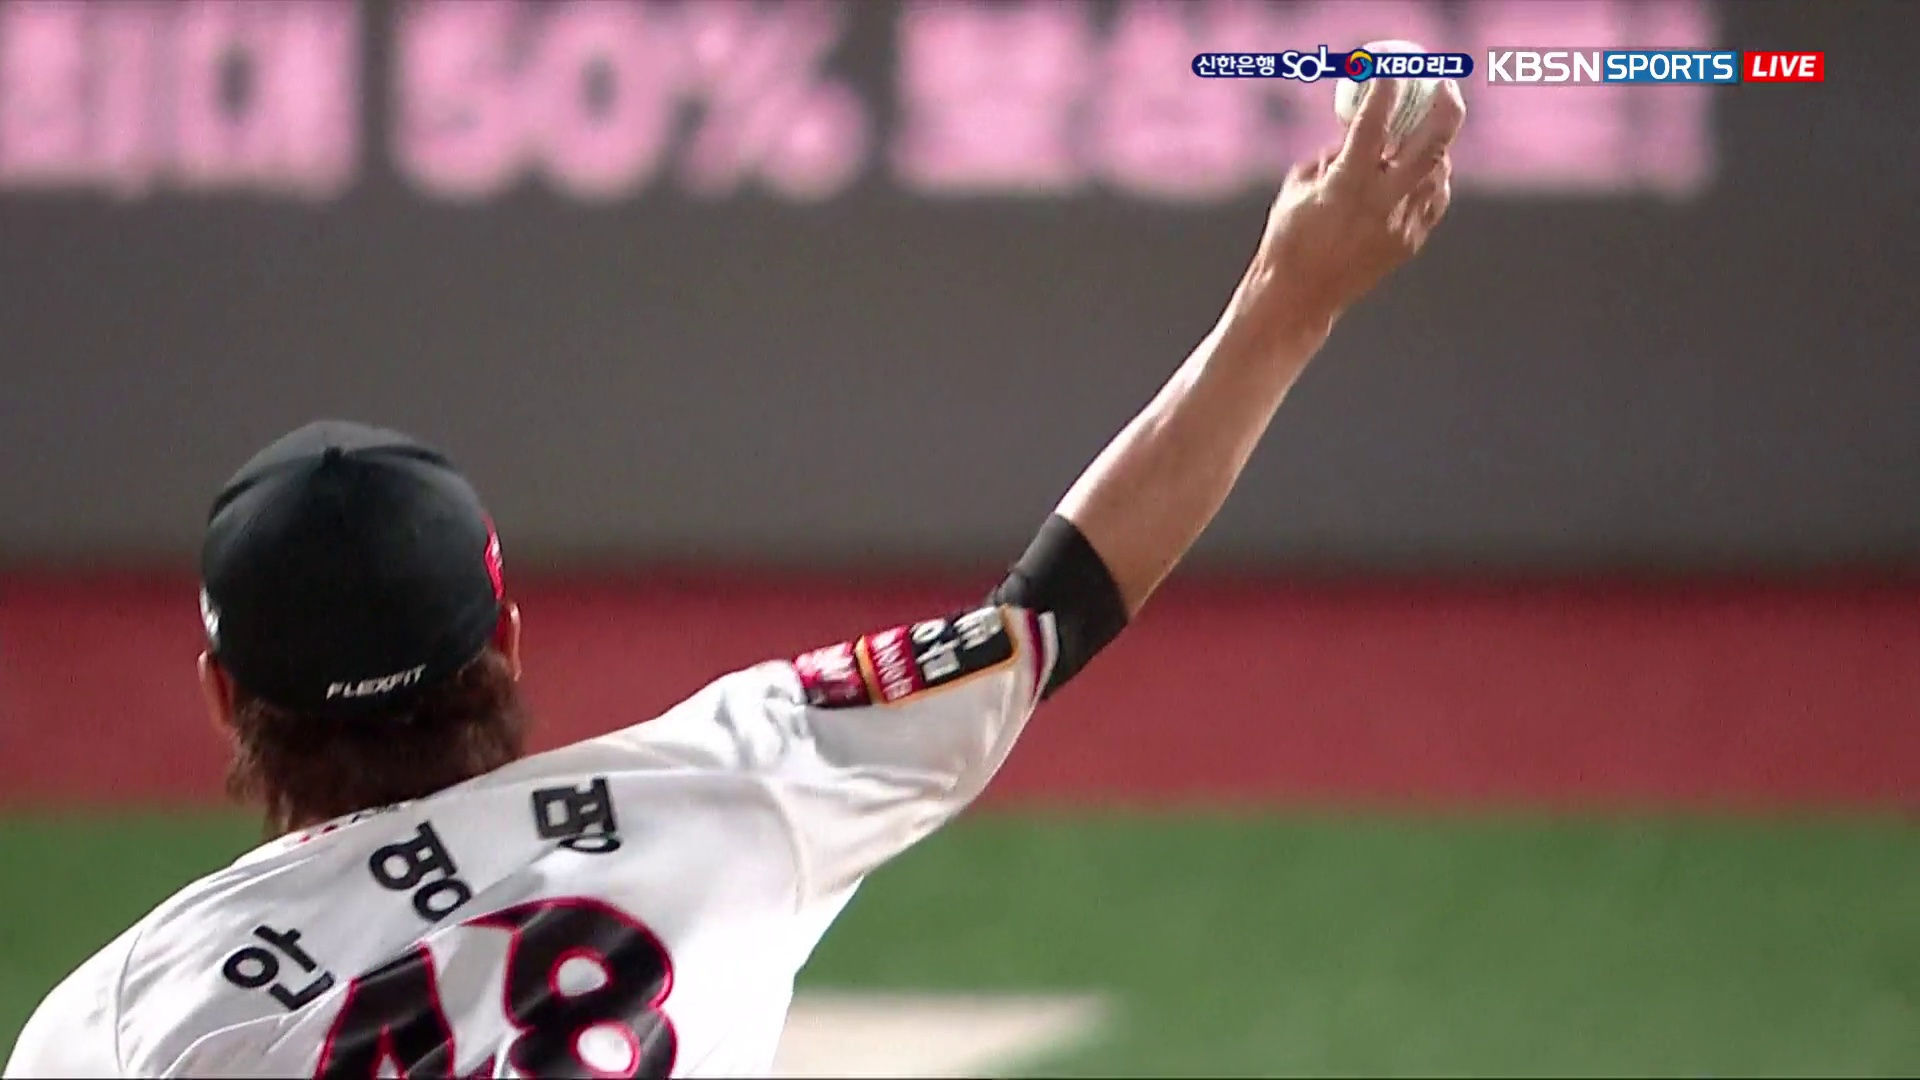zoomin_hand: (968, 37, 1480, 729)
